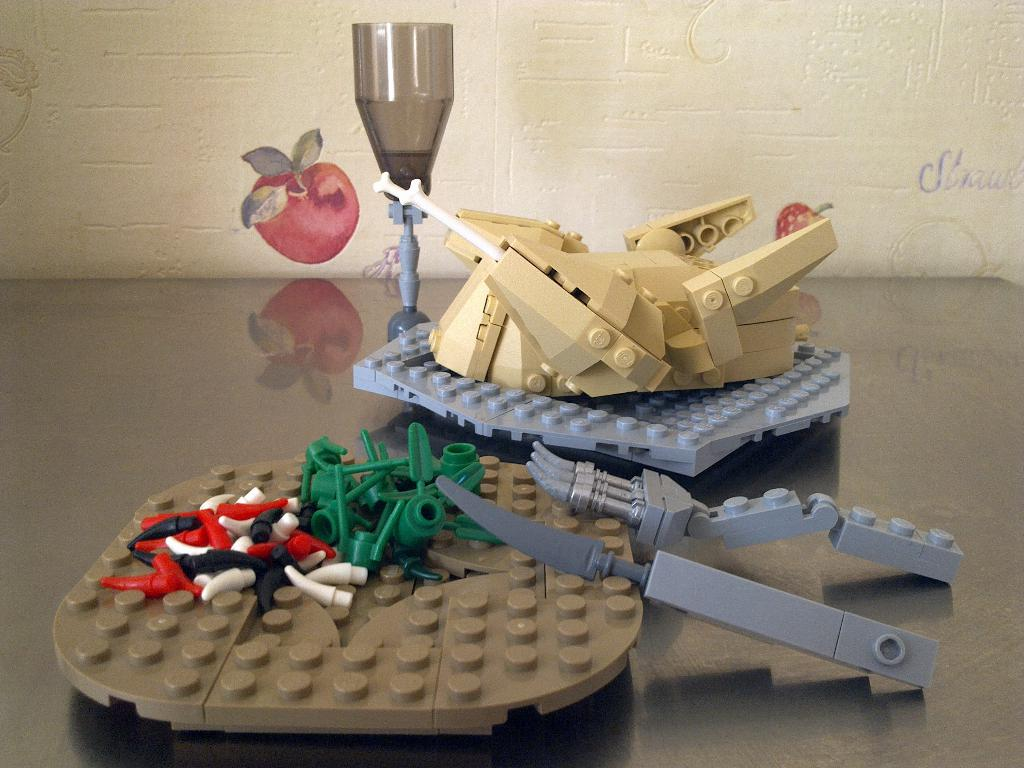Apple: (257, 150, 353, 256)
